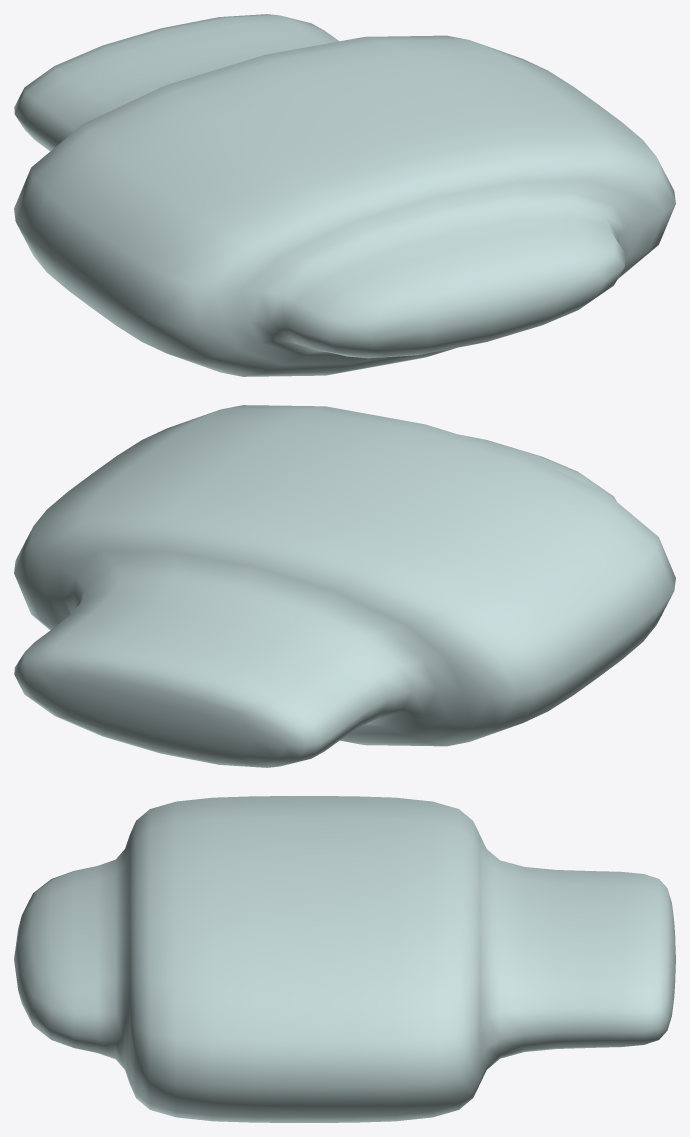
File: Glider.fbx
3 views of the same model, one above another, from view 1: azimuth 30°, elevation 25°; view 2: azimuth 150°, elevation 25°; view 3: azimuth 270°, elevation 25° (orthographic). The views are drawn at different scales.
Visible parts, largest first — view 1: Cube.002; view 2: Cube.002; view 3: Cube.002.
Part boxes in pixels (x1,y1,x2,y2): Cube.002: (14,14,675,376); Cube.002: (14,405,675,767); Cube.002: (14,796,675,1122).
Bounding box in the file's own units: 574 × 204 × 630.
